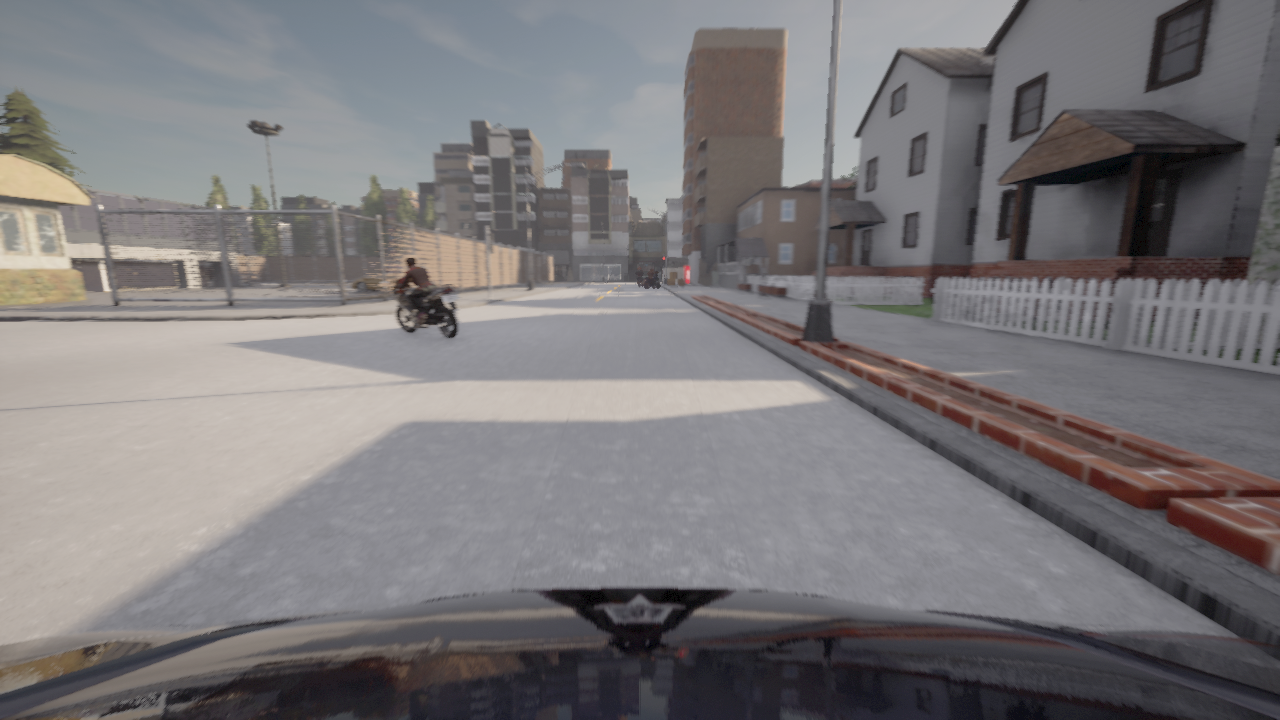cyclist: (0, 588, 1279, 719), (381, 277, 459, 339), (370, 266, 439, 291), (352, 267, 407, 292), (434, 263, 462, 288), (463, 269, 479, 284), (644, 274, 659, 288), (639, 278, 640, 286)
